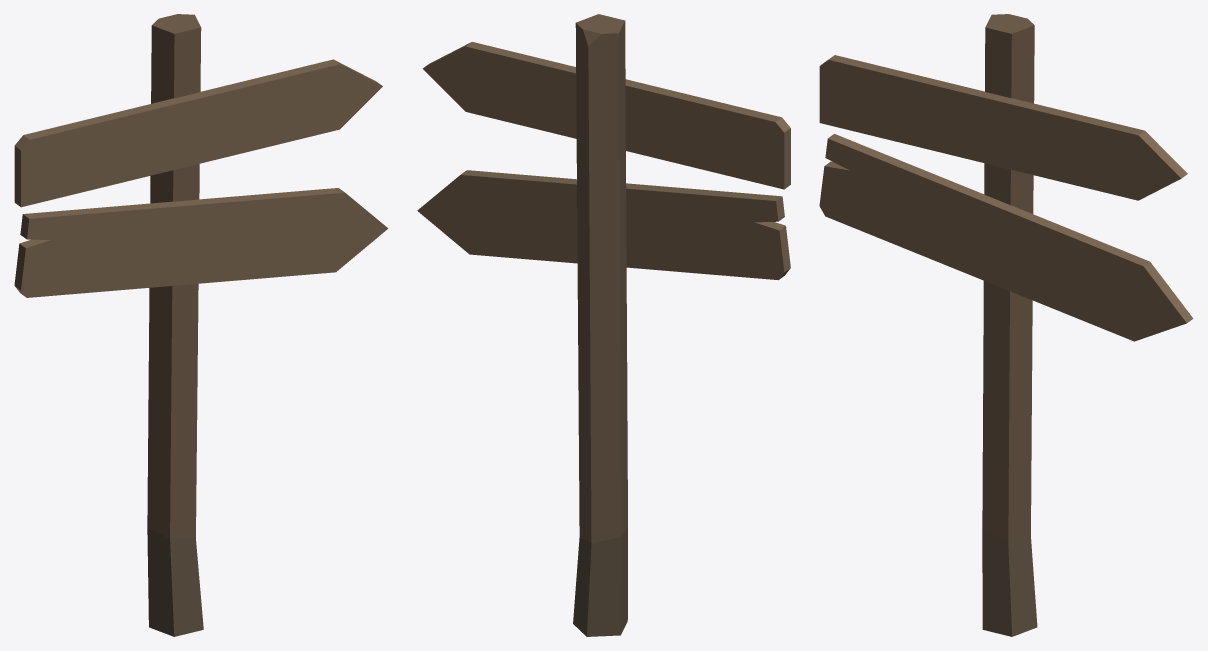
Rendered from SM_Props_Farm_WoodArrowSign_02.fbx.
3 renders of one model, left to right at view 1: azimuth 30°, elevation 25°; view 2: azimuth 150°, elevation 25°; view 3: azimuth 330°, elevation 25°, orthographic.
Visible parts, largest first — view 1: SM_Props_Farm_WoodArrowSign_02; view 2: SM_Props_Farm_WoodArrowSign_02; view 3: SM_Props_Farm_WoodArrowSign_02.
Part boxes in pixels (x1,y1,x2,y2): SM_Props_Farm_WoodArrowSign_02: [14, 14, 388, 636]; SM_Props_Farm_WoodArrowSign_02: [417, 14, 790, 636]; SM_Props_Farm_WoodArrowSign_02: [819, 14, 1193, 636].
Bounding box in the file's own units: 77.9 × 122 × 11.45.
